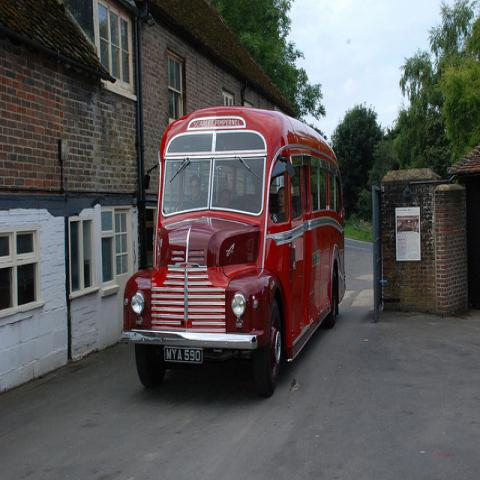bus: (121, 104, 347, 396)
